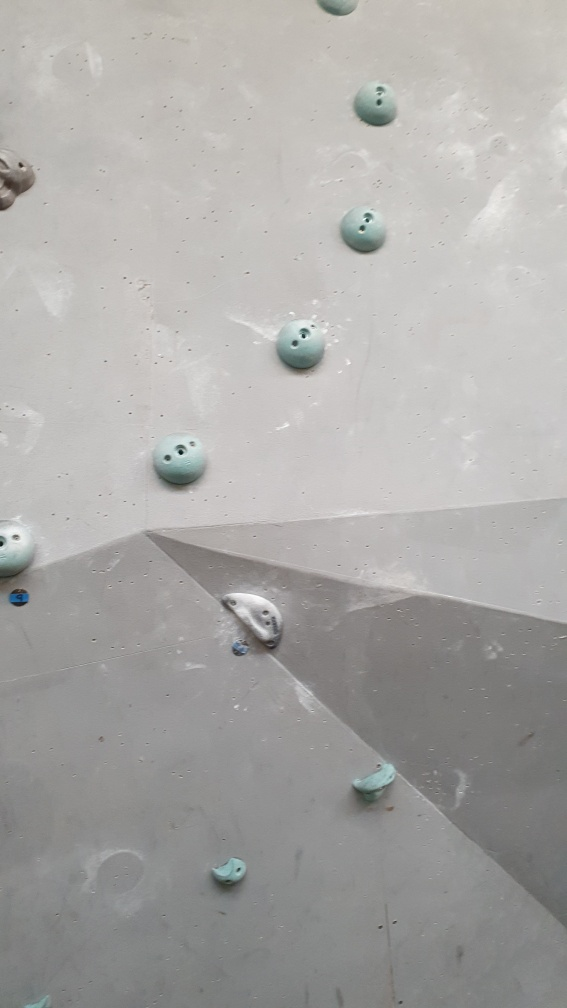Hand Start: (227, 631, 252, 662), (8, 584, 32, 610)
Jug: (350, 763, 402, 807)
Sloper: (149, 429, 212, 493), (272, 316, 332, 376), (348, 77, 404, 125), (338, 205, 389, 255), (1, 519, 39, 582), (312, 1, 361, 19)
